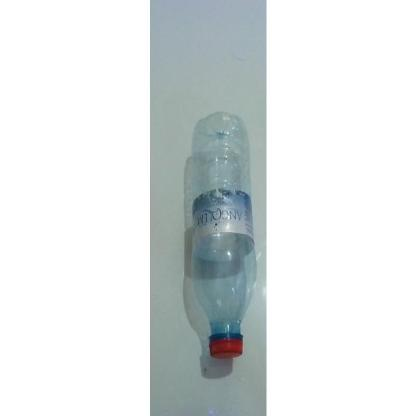Plastic Bottle: (192, 112, 257, 359)
